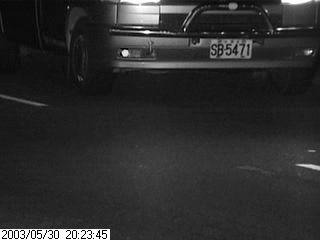plate: (209, 37, 253, 59)
